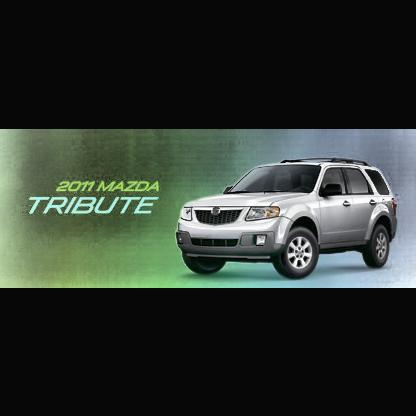Mazda Tribute SUV 2011: (176, 158, 399, 281)
